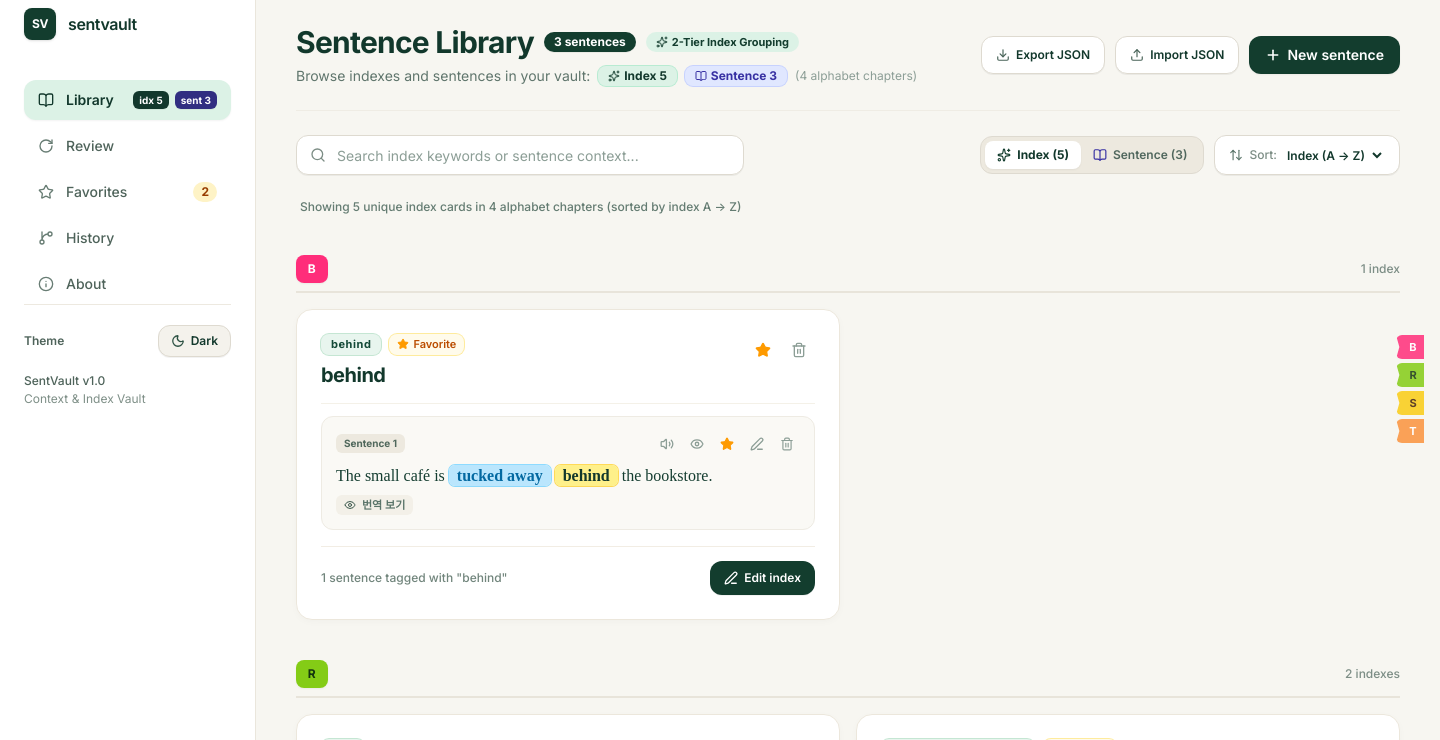
Scenario: Sentence Note - Multi-Index Management › navigates directly to edit an index when clicking "Edit index" on a Library index card
Click the button "Library idx 5 sent 3".
click(128, 100)  # box x1=24 y1=80 x2=231 y2=120
(page scrolled)
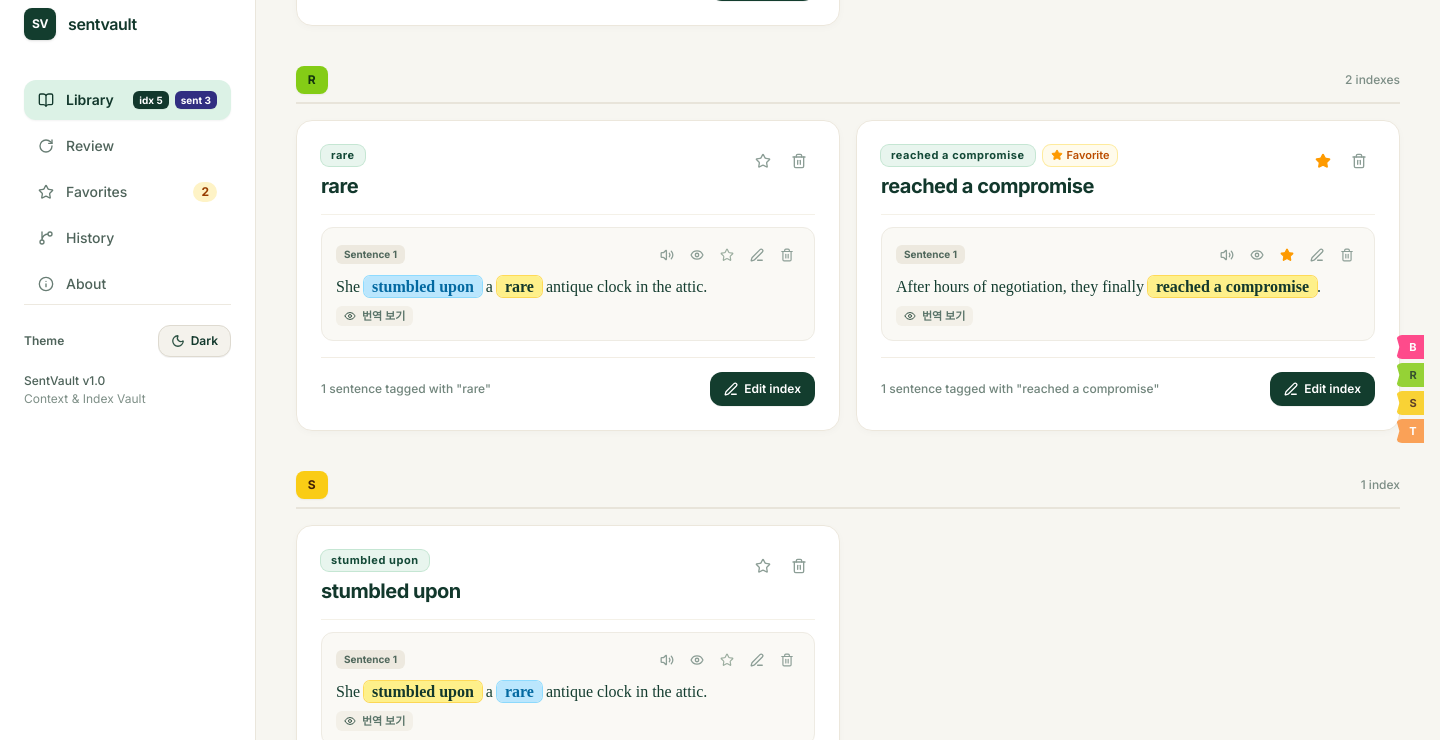
Expected: the element "rare" is shown, x1=321 y1=145 x2=365 y2=198
# The second card in A-Z order is 'rare'
Click the 2nd button "Edit index".
click(763, 389)  # box x1=710 y1=372 x2=815 y2=406
(page scrolled)
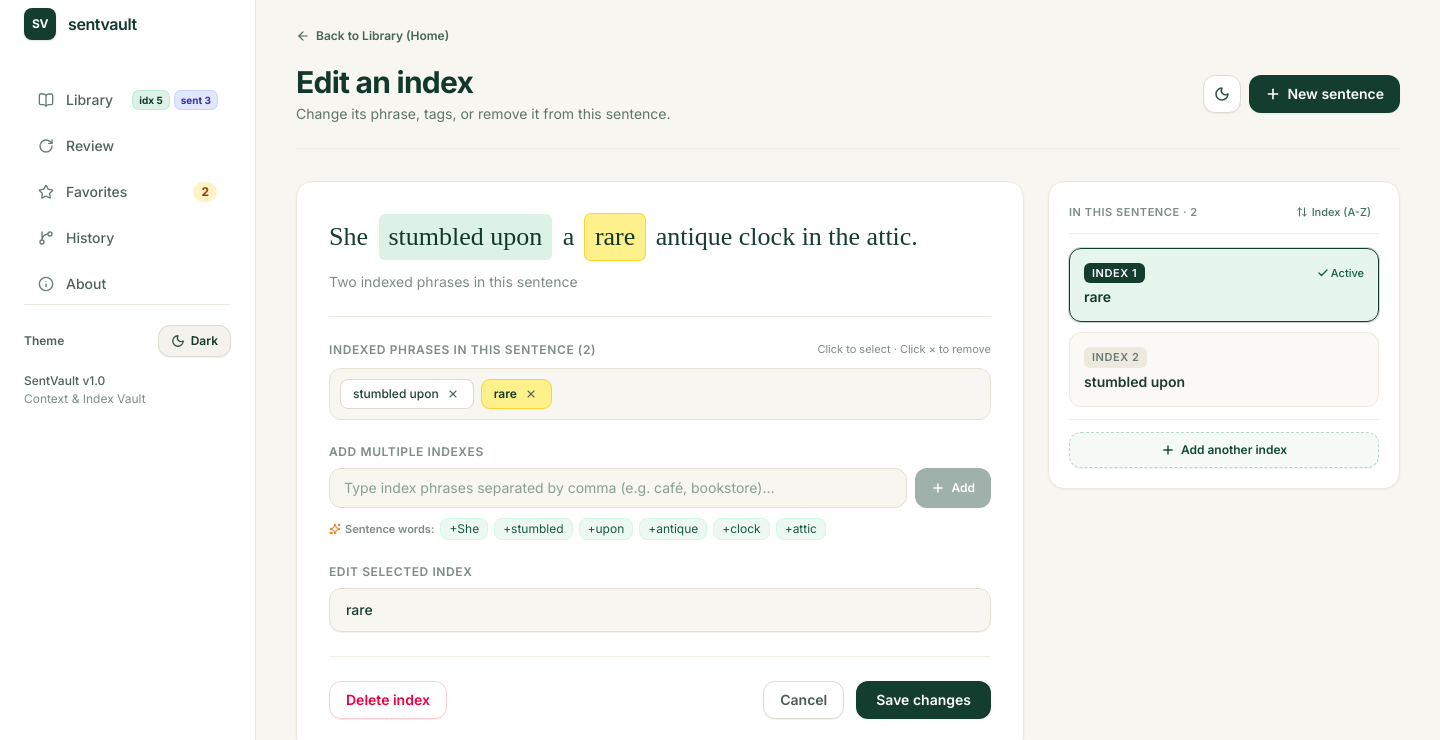
Now the heading "Edit an index" is shown, box x1=296 y1=64 x2=473 y2=100
Now the field labelled "Edit Selected Index" holds "rare", box x1=329 y1=588 x2=991 y2=632
